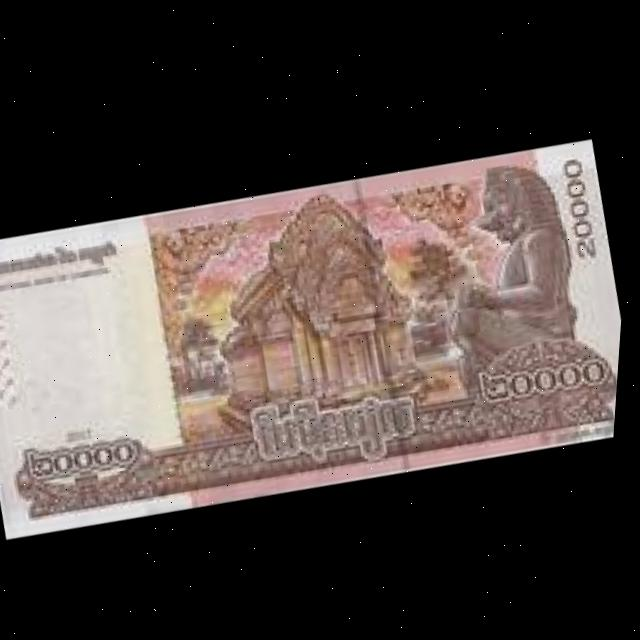banknote: (0, 107, 634, 560), (547, 139, 614, 267)
